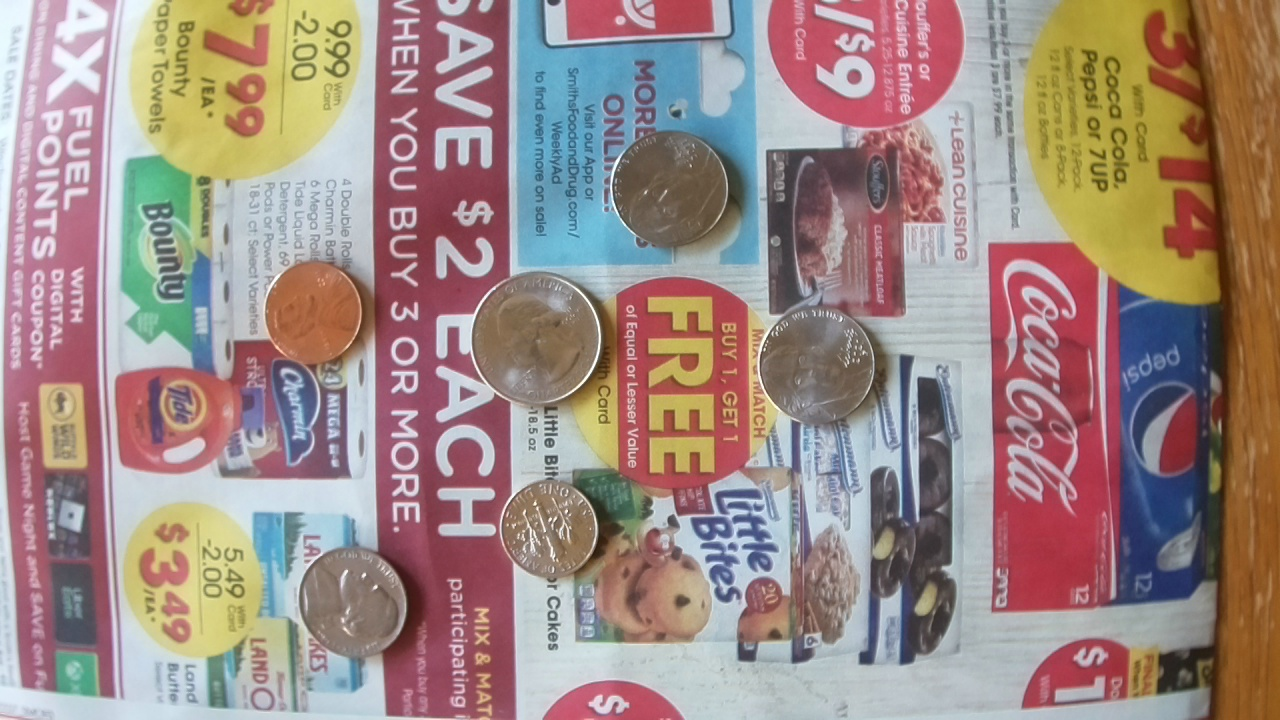dime: (498, 479, 599, 579)
nickel: (756, 303, 875, 425), (610, 129, 731, 248), (298, 545, 412, 659)
penny: (263, 261, 363, 365)
quarter: (470, 271, 602, 407)
